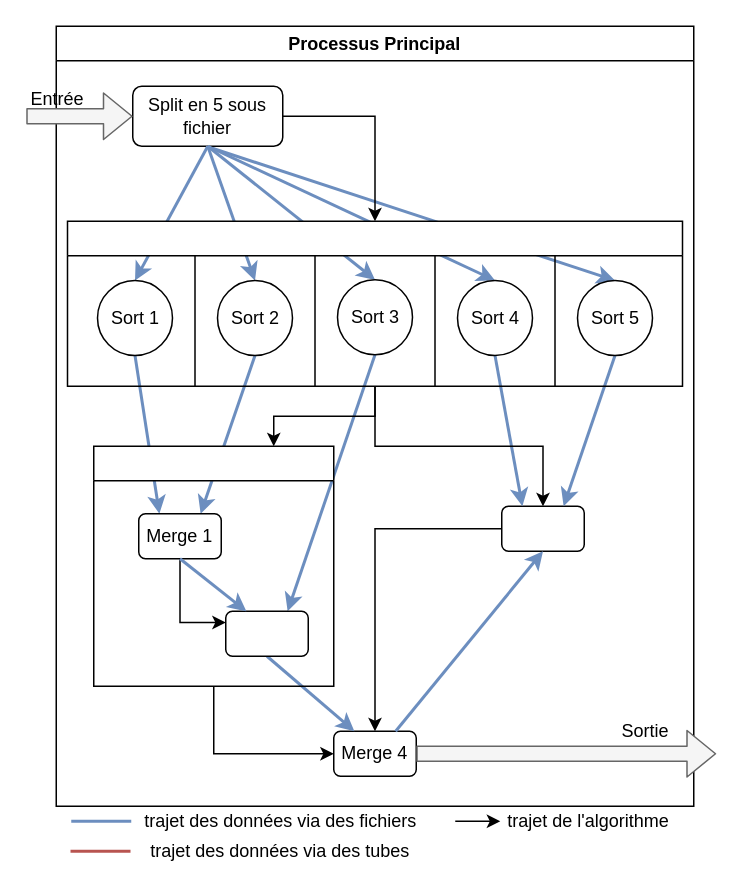
Some shapes in this 741 by 893 pixel diagram are drawn without their labels. The box of each missing label's shape, as (x1, y1, x2, y2) in pixels:
Merge 2: (224, 610, 308, 656)
Merge 3: (500, 505, 584, 551)
Processus léger enfant: (92, 445, 334, 686)
Processus légers enfants (1 processus par sort): (66, 220, 682, 386)
